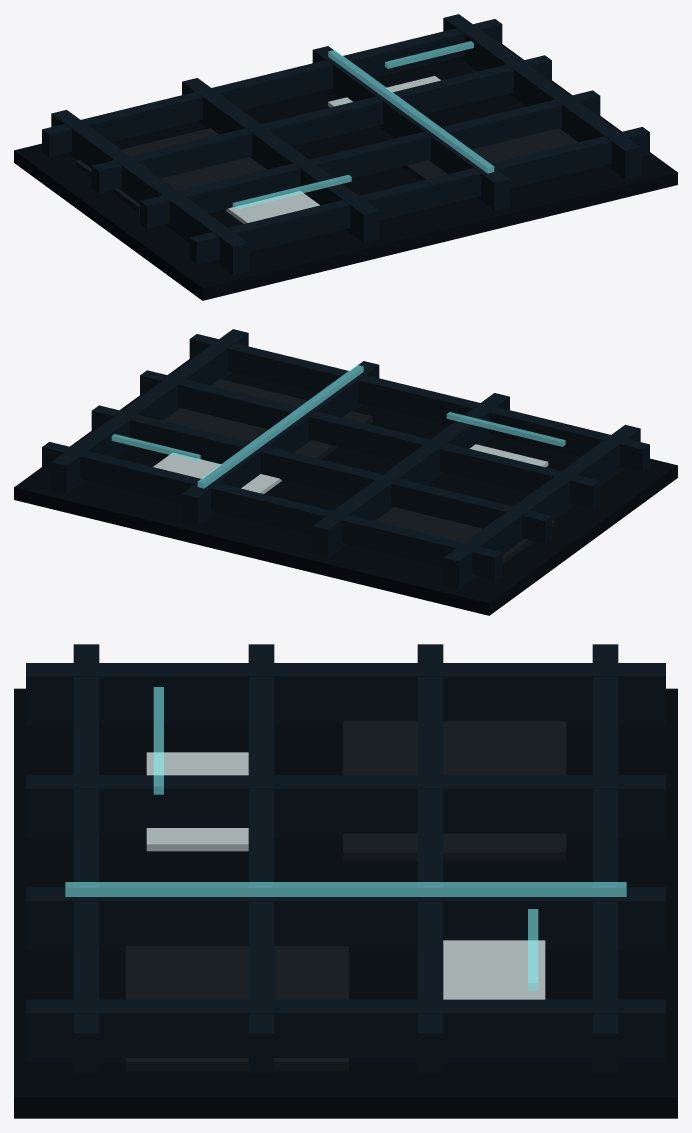
The model's file is hp_room_ceiling_panel_clinic.glb.
3 views of the same model, one above another, from view 1: azimuth 30°, elevation 25°; view 2: azimuth 150°, elevation 25°; view 3: azimuth 270°, elevation 25° (orthographic). The views are drawn at different scales.
Visible parts, largest first — view 1: clinic_ceiling_shadow_backplate, clinic_ceiling_cyan_spine; view 2: clinic_ceiling_shadow_backplate, clinic_ceiling_cyan_spine; view 3: clinic_ceiling_shadow_backplate, clinic_ceiling_cyan_spine.
Boxes of the visible parts, left/top/right/bottom form: clinic_ceiling_shadow_backplate: left=14, top=14, right=677, bottom=300; clinic_ceiling_cyan_spine: left=232, top=41, right=494, bottom=209; clinic_ceiling_shadow_backplate: left=14, top=329, right=677, bottom=615; clinic_ceiling_cyan_spine: left=111, top=365, right=565, bottom=488; clinic_ceiling_shadow_backplate: left=14, top=644, right=677, bottom=1118; clinic_ceiling_cyan_spine: left=65, top=687, right=626, bottom=990.
Bounding box in the file's own units: 3.2 × 0.315 × 2.2.
2 materials, 2 textured.
